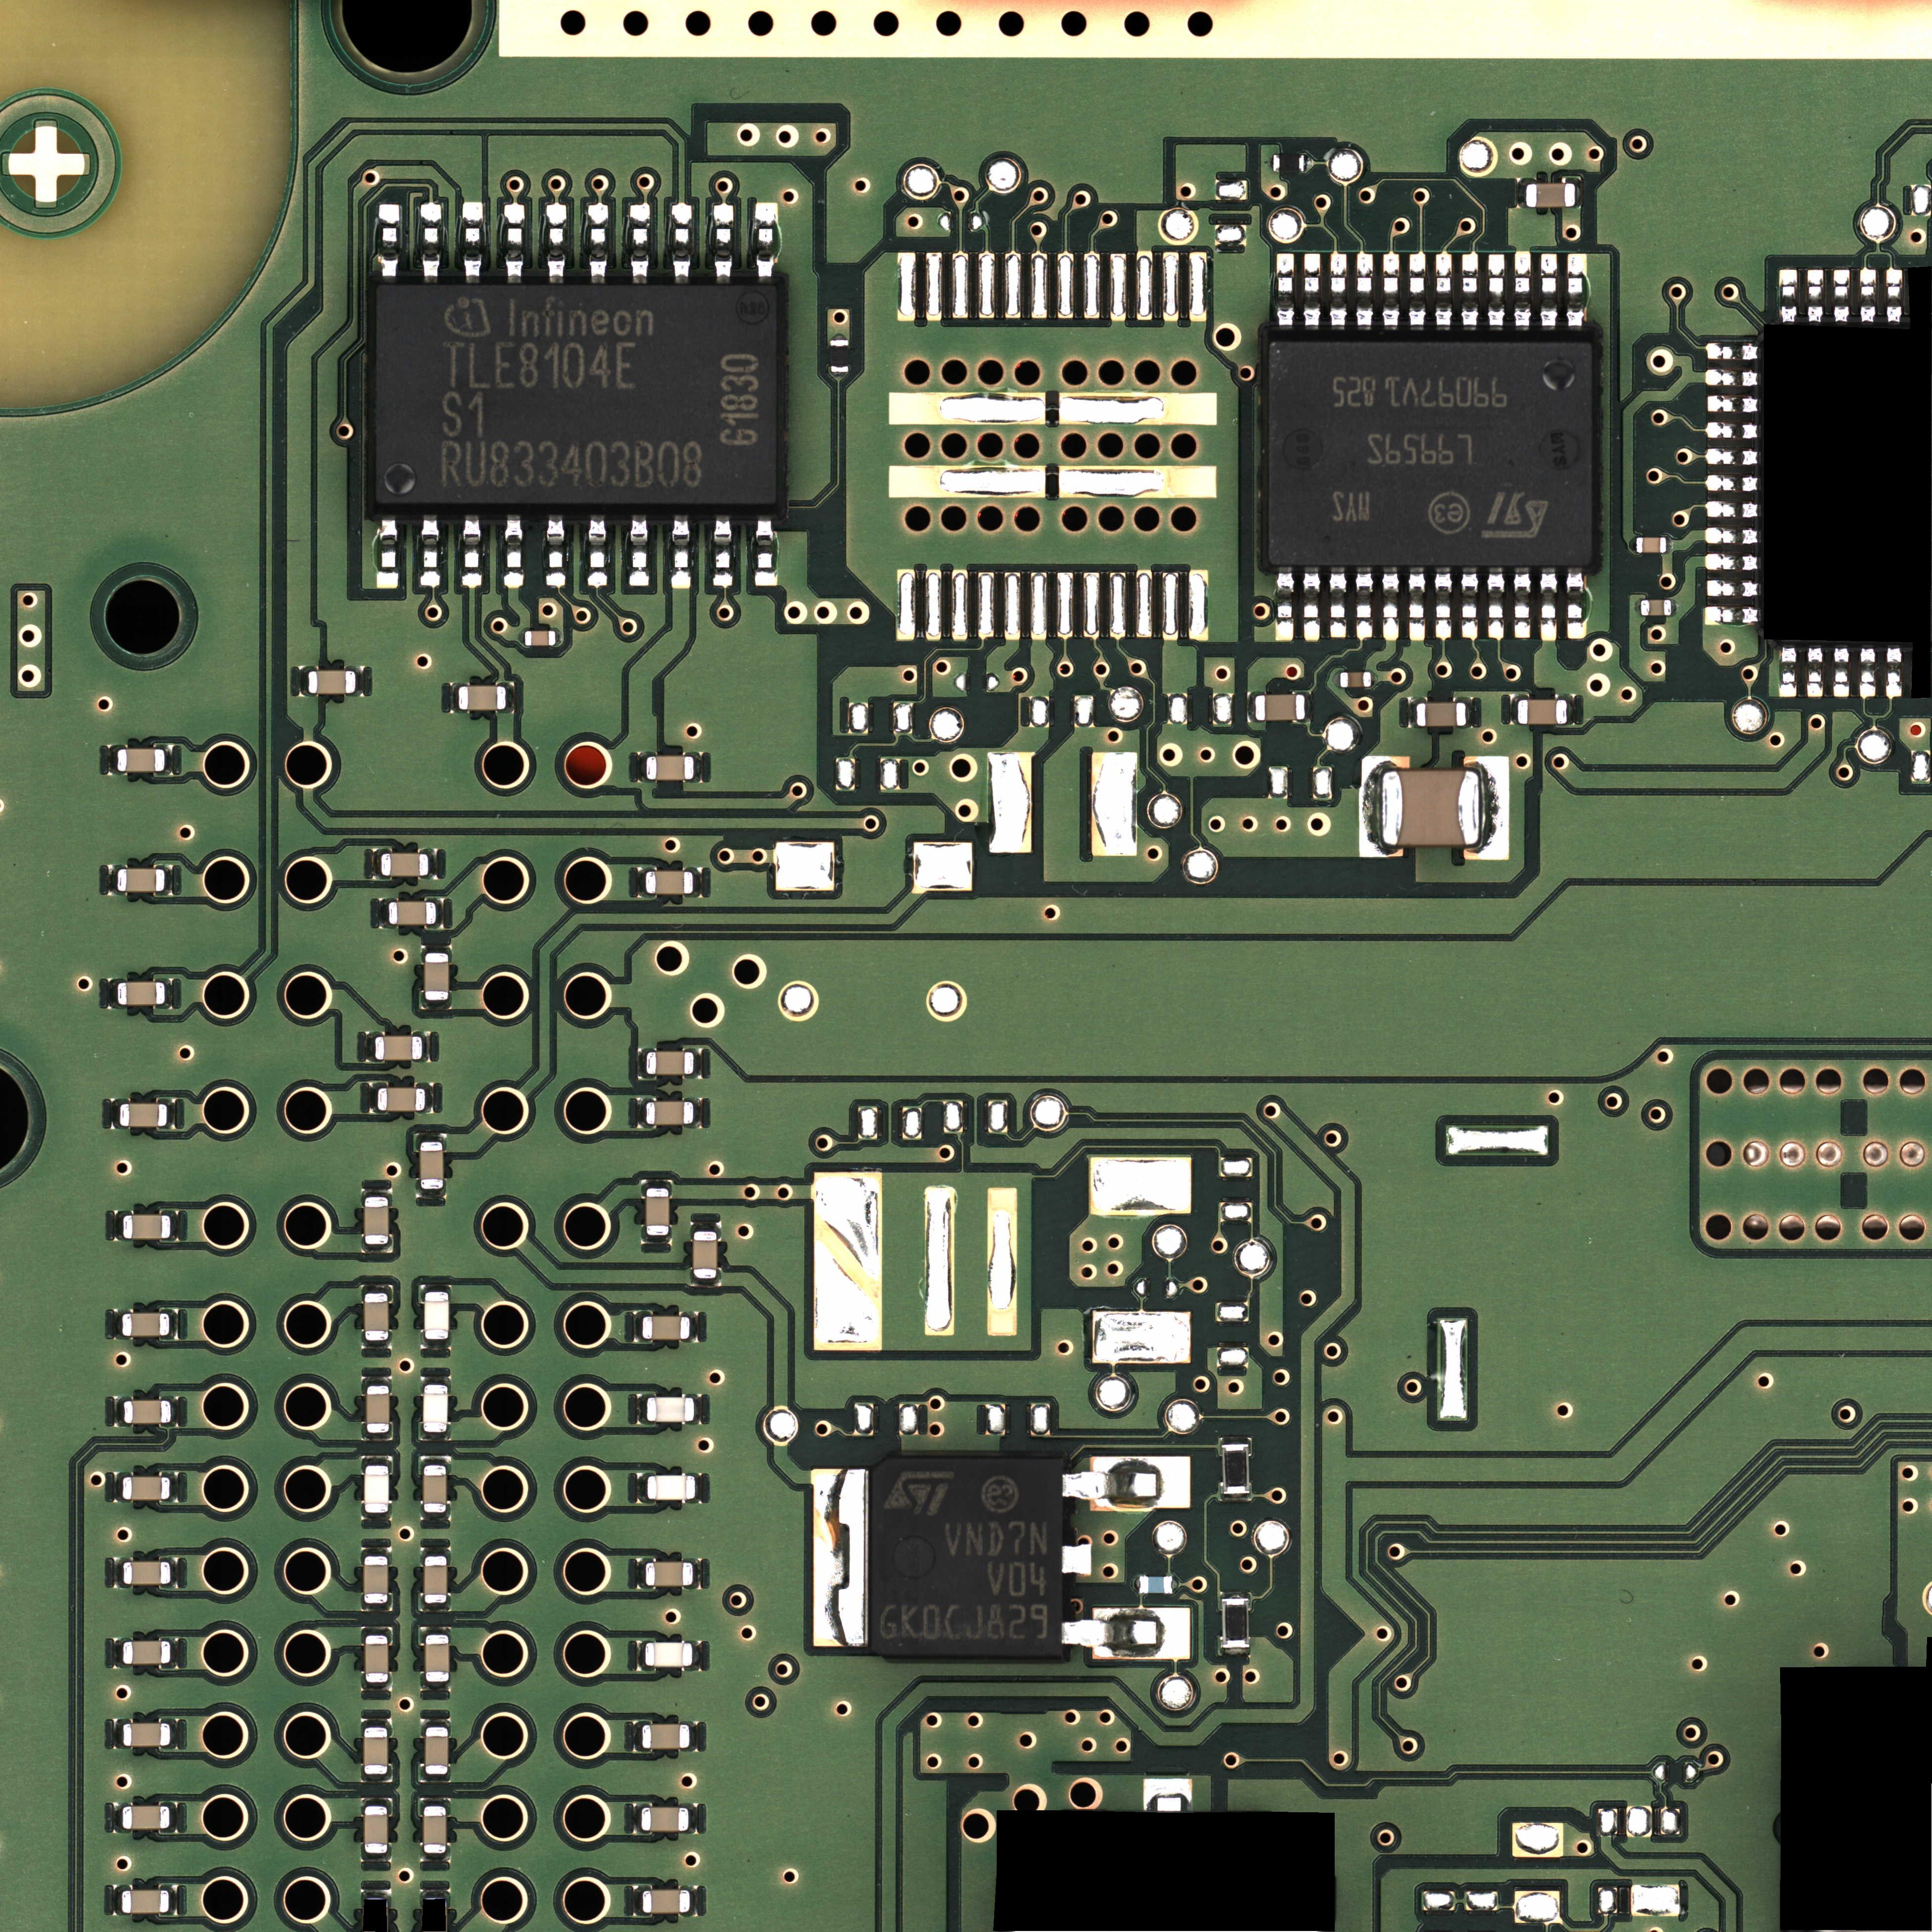Package: (375, 283, 778, 508), (1267, 340, 1594, 566), (869, 1460, 1062, 1658), (1382, 771, 1481, 847), (1254, 694, 1306, 720), (1415, 702, 1467, 727), (119, 1102, 168, 1127), (1224, 1444, 1249, 1493), (646, 755, 694, 780), (425, 1292, 449, 1339), (1224, 1599, 1249, 1647), (419, 1141, 444, 1189), (694, 1231, 718, 1279), (423, 1465, 448, 1513), (364, 1293, 389, 1341), (425, 954, 449, 1001), (423, 1806, 448, 1854), (423, 1385, 448, 1433), (425, 1635, 449, 1683), (646, 1562, 694, 1587), (646, 1051, 694, 1076), (122, 1805, 170, 1829), (458, 686, 506, 711), (364, 1635, 389, 1683), (122, 1640, 170, 1665), (642, 1725, 690, 1750), (642, 1890, 690, 1914), (648, 1476, 695, 1500), (122, 1890, 170, 1914), (364, 1465, 389, 1513), (364, 1198, 389, 1244), (648, 1398, 694, 1422), (1518, 701, 1568, 724), (1527, 184, 1575, 207), (364, 1806, 387, 1854), (375, 1037, 423, 1060), (377, 1088, 425, 1111), (117, 982, 165, 1005), (122, 1723, 170, 1746), (117, 748, 165, 771), (308, 671, 356, 694), (380, 853, 428, 876), (646, 1102, 694, 1125), (117, 869, 165, 892), (122, 1215, 170, 1238), (122, 1313, 170, 1336), (642, 1316, 690, 1339), (389, 902, 437, 925), (646, 1644, 694, 1667), (122, 1477, 170, 1500), (640, 1808, 688, 1831), (366, 1385, 389, 1433), (124, 1401, 172, 1424), (425, 1729, 448, 1775), (364, 1729, 387, 1775), (425, 1557, 448, 1603), (364, 1557, 387, 1603), (646, 1189, 669, 1235), (124, 1562, 170, 1585), (646, 872, 694, 893), (832, 340, 849, 373), (1139, 1576, 1171, 1594), (1272, 156, 1306, 172), (525, 630, 556, 646), (1642, 600, 1672, 616), (1339, 672, 1371, 686), (1637, 538, 1667, 552)
Solder: (814, 1468, 867, 1649), (1063, 1606, 1191, 1661), (1063, 1456, 1191, 1509), (1483, 755, 1509, 858), (1361, 755, 1380, 856), (755, 202, 778, 283), (377, 515, 400, 591), (377, 205, 400, 281), (462, 202, 483, 283), (1143, 1778, 1194, 1812), (713, 205, 734, 283), (754, 515, 777, 586), (462, 515, 483, 589), (421, 203, 441, 283), (672, 203, 692, 283), (589, 203, 609, 283), (506, 203, 525, 283), (630, 203, 649, 283), (711, 515, 732, 587), (1566, 568, 1587, 640), (628, 515, 649, 587), (547, 205, 566, 283), (587, 515, 609, 586), (421, 513, 441, 589), (1566, 253, 1585, 329), (671, 515, 690, 591), (1407, 566, 1426, 640), (547, 513, 566, 586), (504, 515, 524, 587), (1513, 568, 1532, 639), (1514, 251, 1532, 329), (1539, 566, 1557, 642), (1276, 255, 1293, 331), (1302, 253, 1320, 329), (1435, 253, 1453, 329), (1276, 566, 1293, 640), (1435, 566, 1453, 640), (1382, 566, 1399, 640), (1329, 566, 1346, 639), (1355, 568, 1373, 640), (1776, 267, 1799, 322), (1882, 269, 1905, 324), (1856, 269, 1879, 324), (1461, 568, 1479, 639), (1541, 253, 1557, 331), (1384, 253, 1399, 331), (1304, 566, 1320, 642), (1488, 255, 1504, 331), (1357, 253, 1373, 329), (1330, 253, 1346, 329), (1461, 253, 1477, 329), (1410, 253, 1426, 329), (1805, 269, 1826, 324), (1831, 269, 1852, 324), (1704, 605, 1759, 626), (1704, 419, 1759, 441), (1706, 393, 1760, 414), (1488, 566, 1504, 639), (1706, 579, 1760, 598), (1704, 552, 1759, 571), (1704, 525, 1759, 545), (1704, 499, 1759, 518), (1704, 472, 1759, 492), (1706, 446, 1760, 465), (1704, 368, 1759, 387), (1706, 341, 1760, 361), (1884, 648, 1904, 699), (1778, 648, 1798, 697), (1911, 648, 1930, 697), (1806, 648, 1824, 699), (1859, 648, 1877, 699), (1833, 648, 1851, 697), (1063, 1545, 1092, 1575), (363, 1031, 375, 1062), (635, 1472, 648, 1502), (106, 1099, 119, 1129), (428, 849, 439, 881), (111, 1803, 122, 1833), (635, 1394, 646, 1424), (165, 745, 175, 775), (690, 1221, 720, 1231), (165, 865, 175, 895), (632, 1721, 642, 1752), (635, 752, 646, 782), (632, 1886, 642, 1916), (635, 1559, 646, 1589), (106, 865, 117, 895), (106, 745, 117, 775), (106, 978, 117, 1008), (170, 1638, 180, 1668), (170, 1210, 180, 1240), (448, 683, 458, 713), (690, 1886, 701, 1916), (361, 1888, 391, 1898), (111, 1638, 122, 1667), (165, 980, 175, 1008), (113, 1398, 124, 1426), (377, 899, 387, 927), (688, 1805, 699, 1833), (297, 667, 308, 695), (170, 1398, 180, 1426), (172, 1886, 182, 1914), (637, 1047, 646, 1081), (418, 1603, 451, 1612), (633, 1309, 642, 1341), (361, 1187, 393, 1196), (1516, 179, 1525, 211), (421, 1001, 451, 1010), (363, 1683, 393, 1691), (694, 1640, 702, 1670), (113, 1557, 122, 1587), (694, 1560, 702, 1591), (437, 899, 446, 929), (416, 1132, 446, 1141), (421, 1376, 451, 1385), (421, 1546, 451, 1555), (421, 1718, 451, 1727), (113, 1472, 122, 1502), (361, 1546, 391, 1555), (368, 1083, 377, 1113), (632, 1803, 640, 1833), (421, 1456, 451, 1465), (113, 1309, 122, 1339), (113, 1210, 122, 1240), (168, 1099, 177, 1129), (170, 1472, 179, 1502), (416, 1189, 446, 1198), (361, 1718, 391, 1727), (635, 1640, 644, 1670), (642, 1235, 672, 1244), (170, 1557, 179, 1587), (361, 1376, 391, 1385), (419, 1798, 449, 1806), (1221, 1647, 1251, 1656), (361, 1798, 391, 1806), (372, 849, 380, 879), (694, 1394, 702, 1424), (361, 1513, 391, 1522), (172, 1803, 180, 1833), (692, 1721, 701, 1752), (1576, 179, 1585, 209), (356, 667, 364, 695), (506, 683, 515, 711), (637, 1099, 646, 1127), (423, 1033, 432, 1062), (113, 1720, 122, 1748), (111, 1886, 120, 1914), (363, 1284, 391, 1293), (363, 1456, 391, 1465), (363, 1626, 391, 1635), (425, 1085, 433, 1113), (170, 1720, 179, 1748), (170, 1309, 179, 1338), (694, 755, 702, 782), (423, 1890, 449, 1898), (361, 1341, 393, 1348), (690, 1311, 697, 1343), (419, 1628, 451, 1635), (419, 1775, 449, 1782), (419, 1433, 449, 1440), (694, 1099, 701, 1129), (363, 1775, 393, 1782), (421, 1683, 451, 1690), (363, 1246, 393, 1253), (421, 1854, 451, 1861), (421, 1284, 451, 1292), (421, 1341, 451, 1348), (642, 1180, 672, 1187), (421, 945, 451, 952), (637, 867, 644, 897), (692, 1279, 722, 1286), (361, 1854, 391, 1861), (1221, 1437, 1251, 1444), (1408, 697, 1415, 727), (361, 1605, 391, 1612), (694, 869, 701, 897), (695, 1474, 702, 1502), (1221, 1591, 1249, 1598), (1247, 694, 1254, 722), (364, 1433, 393, 1440), (1306, 694, 1313, 720), (419, 1514, 451, 1520), (695, 1047, 701, 1077), (1511, 694, 1516, 724), (1568, 695, 1573, 725), (1467, 697, 1472, 727), (1223, 1495, 1251, 1500), (556, 628, 563, 648), (518, 628, 525, 648), (1371, 671, 1378, 690), (1306, 154, 1313, 173), (1633, 598, 1640, 617), (832, 333, 849, 340), (1332, 671, 1339, 688), (1672, 600, 1679, 617), (1628, 536, 1635, 554), (1667, 536, 1674, 554), (1267, 152, 1272, 173), (830, 373, 847, 379), (1134, 1576, 1139, 1594), (1173, 1576, 1178, 1594)
